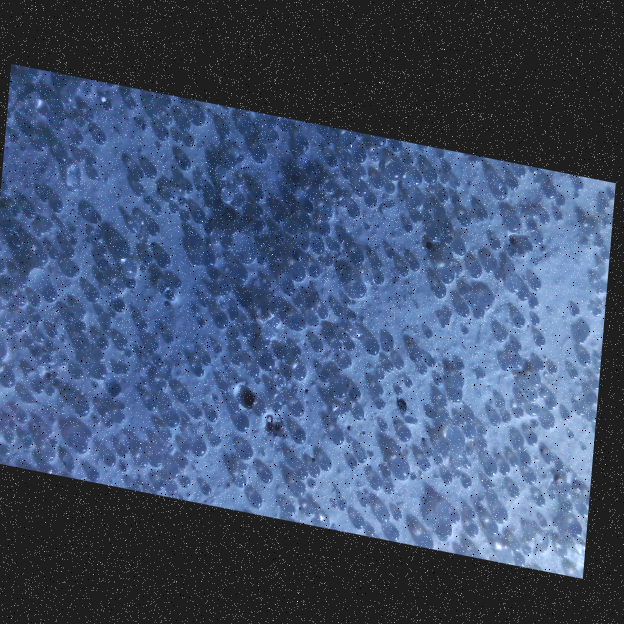GrassBeadSeg: (63, 142, 525, 565), (79, 119, 549, 525), (18, 185, 558, 517), (67, 112, 588, 452), (74, 152, 521, 540), (0, 204, 584, 456), (50, 199, 551, 485), (56, 130, 472, 469), (77, 122, 599, 390), (86, 156, 436, 549), (71, 134, 526, 418), (3, 249, 453, 515), (71, 197, 567, 437), (48, 204, 465, 480), (13, 294, 480, 537), (91, 132, 452, 418), (80, 85, 609, 277), (158, 157, 559, 410), (42, 195, 462, 433), (31, 224, 597, 393), (132, 126, 427, 449), (22, 273, 555, 448), (113, 245, 465, 509), (68, 225, 450, 454), (69, 239, 542, 416), (309, 202, 608, 479), (145, 223, 453, 491), (43, 166, 282, 511), (104, 319, 517, 518), (34, 208, 297, 517), (13, 293, 540, 447), (2, 146, 350, 376), (140, 205, 393, 519), (110, 281, 532, 467), (143, 166, 388, 485), (113, 241, 367, 527), (115, 241, 542, 409), (311, 237, 549, 537), (44, 286, 412, 479), (97, 158, 366, 421), (338, 249, 610, 504), (179, 279, 562, 456), (93, 211, 565, 354), (72, 240, 501, 397), (189, 109, 434, 382), (77, 155, 414, 348), (132, 243, 537, 402), (123, 278, 573, 421), (112, 282, 581, 413), (37, 381, 460, 525), (249, 340, 593, 503), (112, 205, 363, 424), (118, 252, 458, 410), (192, 214, 383, 489), (0, 345, 449, 461), (326, 180, 475, 521), (324, 183, 513, 424), (76, 433, 549, 529), (112, 412, 510, 524), (87, 115, 207, 483), (28, 69, 141, 451), (111, 303, 413, 443), (289, 372, 538, 540), (238, 122, 469, 296), (89, 289, 530, 380), (16, 412, 510, 489), (177, 346, 449, 472), (333, 416, 571, 557), (72, 315, 579, 379), (140, 270, 522, 352), (165, 411, 521, 498), (282, 224, 413, 459), (73, 206, 334, 317), (62, 196, 243, 352), (29, 296, 538, 351), (110, 383, 526, 450), (256, 239, 517, 339), (272, 168, 405, 361), (229, 354, 524, 441), (178, 264, 308, 461), (25, 69, 148, 271), (159, 434, 511, 502), (220, 386, 393, 524), (460, 179, 554, 420), (166, 413, 509, 478), (237, 200, 504, 282), (259, 200, 379, 371), (214, 346, 559, 404), (73, 255, 192, 412), (200, 323, 306, 497), (193, 250, 282, 457), (180, 182, 383, 270), (412, 263, 520, 424), (266, 260, 432, 359), (149, 455, 368, 530), (289, 349, 501, 426), (263, 285, 347, 473), (231, 337, 541, 387), (78, 427, 464, 467), (83, 251, 366, 303), (142, 196, 241, 339), (463, 216, 524, 439), (36, 100, 136, 236), (253, 376, 584, 417), (453, 167, 579, 274), (124, 237, 234, 359), (46, 356, 196, 445), (0, 374, 306, 416), (134, 169, 253, 276), (31, 190, 194, 268), (194, 411, 316, 515), (272, 379, 360, 517), (75, 442, 305, 494), (504, 220, 557, 431), (79, 234, 210, 318), (133, 170, 242, 266), (177, 456, 445, 495), (136, 321, 309, 381), (347, 182, 449, 283), (517, 199, 566, 404), (196, 119, 332, 190), (336, 308, 485, 370), (163, 417, 263, 509), (194, 211, 299, 297), (293, 138, 345, 309), (436, 262, 506, 387), (273, 345, 393, 417), (0, 248, 108, 326), (363, 194, 456, 284), (81, 293, 170, 386), (228, 365, 399, 413), (495, 241, 603, 316), (433, 285, 472, 489), (3, 424, 164, 473), (485, 456, 582, 537), (131, 142, 207, 245), (36, 214, 287, 245), (113, 282, 367, 311), (199, 298, 268, 404), (357, 414, 496, 464), (38, 94, 154, 151), (531, 337, 597, 437), (484, 481, 568, 555), (366, 338, 462, 402), (177, 117, 279, 177), (121, 261, 293, 296), (470, 222, 538, 309), (154, 408, 221, 495), (7, 207, 80, 285), (74, 400, 250, 432), (309, 421, 391, 488), (309, 445, 555, 467), (456, 415, 574, 456), (12, 93, 104, 144), (154, 417, 214, 494), (253, 305, 354, 350), (51, 370, 109, 447), (254, 177, 313, 249), (292, 173, 346, 251), (404, 171, 451, 259), (324, 224, 395, 282), (145, 341, 229, 390), (177, 158, 404, 176), (424, 179, 471, 264), (106, 455, 333, 472), (376, 356, 436, 419), (359, 500, 453, 540), (468, 299, 546, 347), (425, 154, 506, 200), (180, 191, 245, 246), (14, 82, 64, 151), (442, 155, 526, 196), (440, 159, 471, 269), (299, 217, 440, 241), (85, 253, 174, 291), (342, 261, 419, 304), (190, 365, 250, 420), (153, 106, 230, 148), (261, 280, 347, 317), (215, 250, 273, 296), (312, 150, 378, 188), (221, 188, 263, 246), (30, 326, 76, 378), (274, 375, 362, 402), (573, 181, 608, 246), (23, 315, 59, 378), (91, 337, 129, 396), (238, 429, 308, 461), (259, 429, 299, 484), (95, 324, 176, 350), (325, 135, 402, 161), (537, 464, 580, 506), (313, 292, 356, 331), (539, 504, 588, 537), (376, 360, 398, 431), (356, 167, 413, 193), (501, 315, 524, 372), (449, 361, 485, 397), (1, 420, 52, 444), (149, 98, 171, 147), (144, 360, 229, 370), (325, 324, 352, 351), (454, 464, 497, 477), (534, 532, 550, 555), (113, 244, 131, 259), (23, 206, 35, 219)
